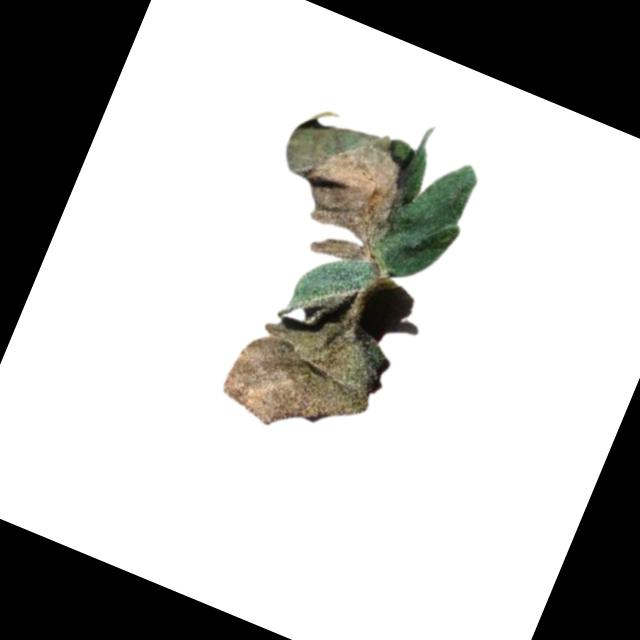Late_blight: (252, 100, 434, 281), (214, 290, 398, 462)
